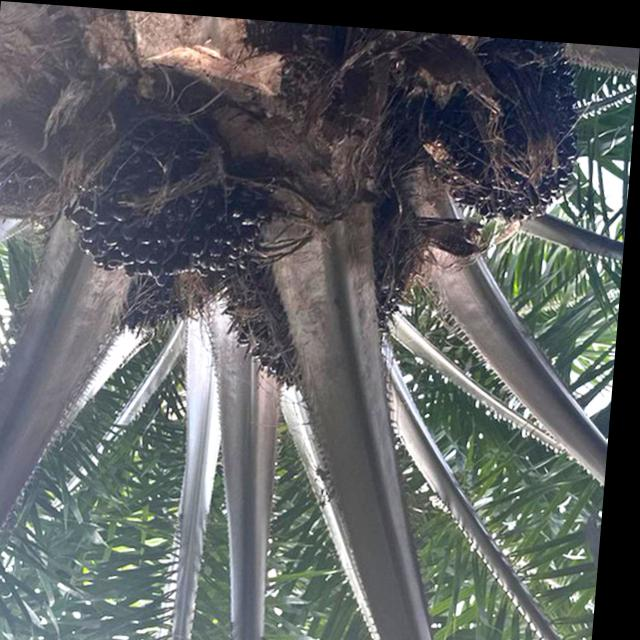unripe: (212, 191, 426, 395)
